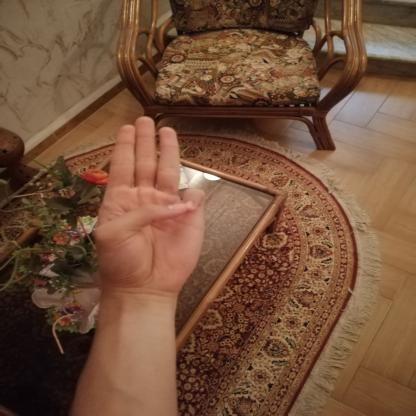THA: (76, 104, 216, 302)
